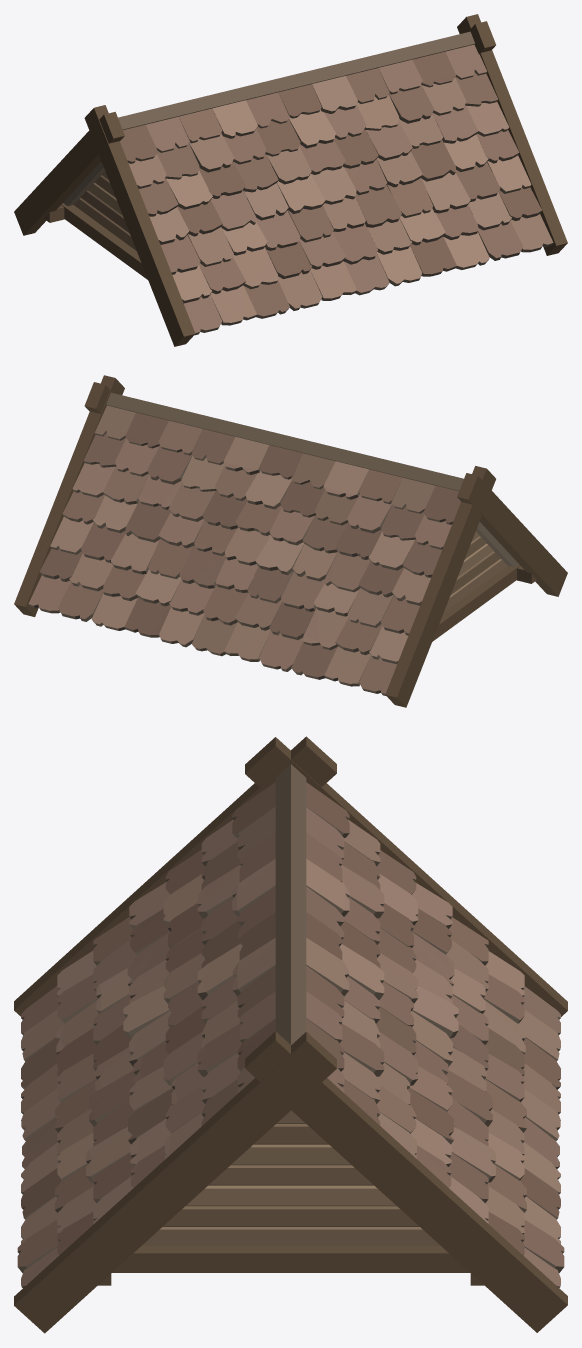
The model's file is Bld_Roof_01.fbx.
3 renders of one model, top to bottom at view 1: azimuth 30°, elevation 25°; view 2: azimuth 150°, elevation 25°; view 3: azimuth 270°, elevation 25°, orthographic. The views are drawn at different scales.
Parts seen in each view (by area): view 1: Bld_Roof_01; view 2: Bld_Roof_01; view 3: Bld_Roof_01.
Part boxes in pixels (x1,y1,x2,y2): Bld_Roof_01: [14, 14, 567, 346]; Bld_Roof_01: [14, 375, 567, 707]; Bld_Roof_01: [14, 736, 567, 1333].
Bounding box in the file's own units: 6.62 × 2.97 × 5.09.
